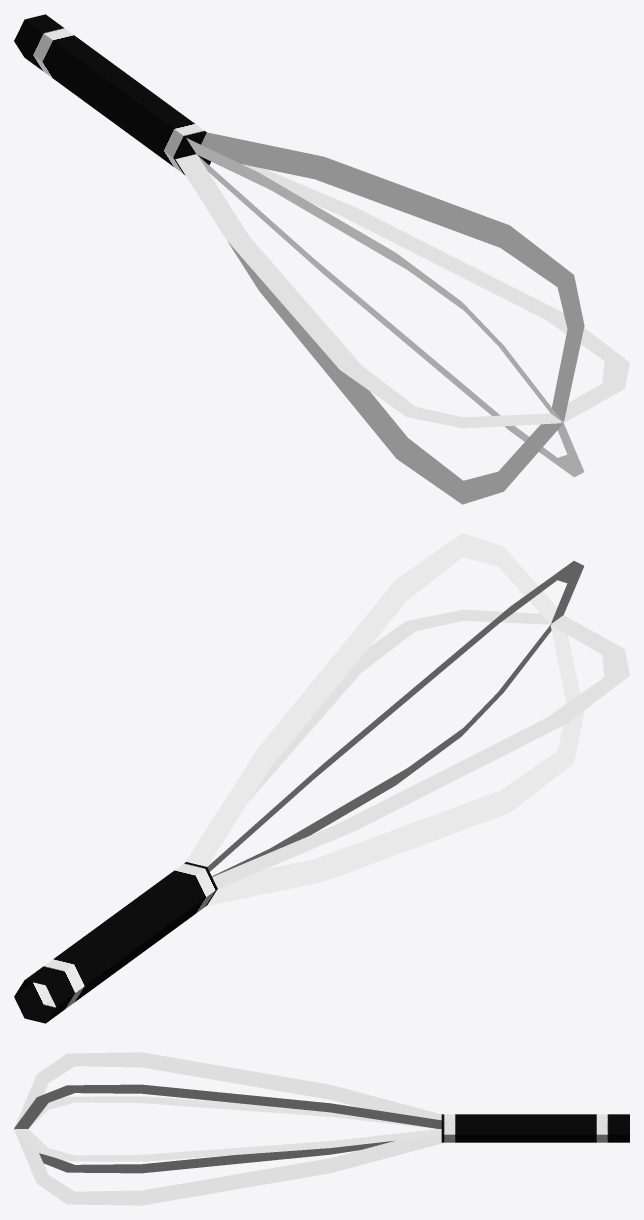
File: ammoMixer_mesh.fbx
The picture shows the model from 3 angles, top to bottom: view 1: azimuth 30°, elevation 25°; view 2: azimuth 150°, elevation 25°; view 3: azimuth 270°, elevation 25°; orthographic projection. The views are drawn at different scales.
Parts seen in each view (by area): view 1: ammoMixer_mesh01; view 2: ammoMixer_mesh01; view 3: ammoMixer_mesh01.
Part boxes in pixels (x1=…): ammoMixer_mesh01: x1=14, y1=14, x2=629, y2=504; ammoMixer_mesh01: x1=14, y1=533, x2=629, y2=1023; ammoMixer_mesh01: x1=14, y1=1052, x2=629, y2=1205.
Bounding box in the file's own units: 40.81 × 35.37 × 164.
